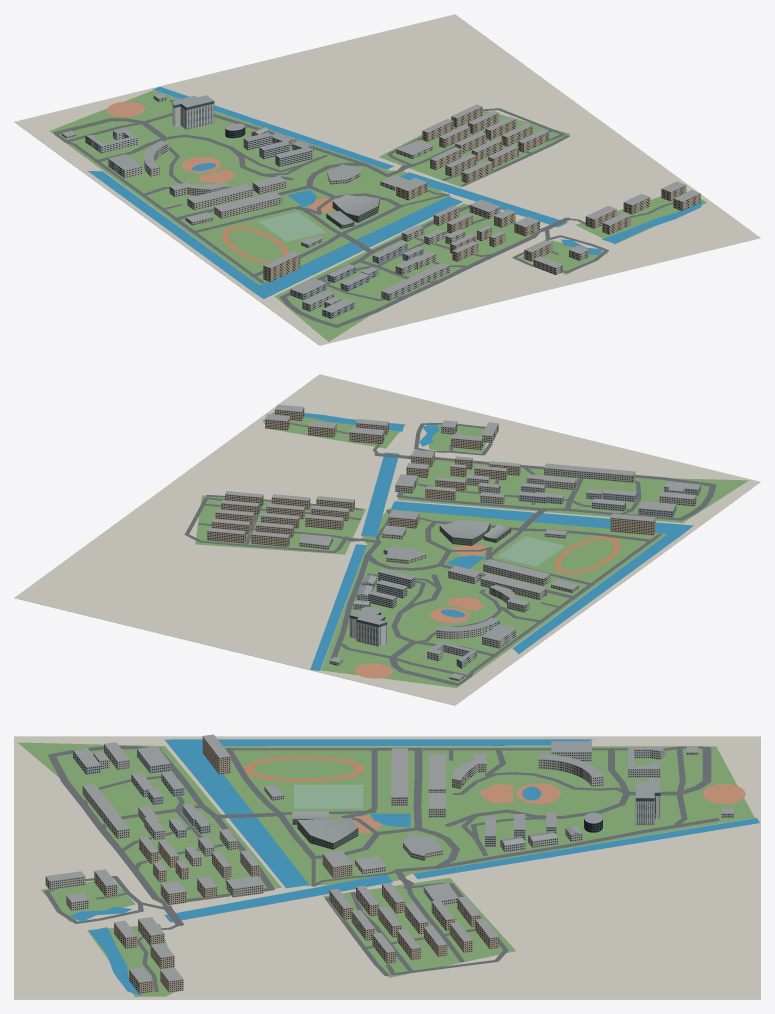
The model's file is campus.fbx.
3 views of the same model, one above another, from view 1: azimuth 30°, elevation 25°; view 2: azimuth 150°, elevation 25°; view 3: azimuth 270°, elevation 25° (orthographic). The views are drawn at different scales.
Visible parts, largest first — view 1: Ground, GRASS_022, ROAD_001, GRASS_010, WATER_002, ROAD_002, GRASS_017, GRASS_004, GRASS_021, WATER_001, WATER_003, GRASS_007 (+22 smaller); view 2: Ground, GRASS_022, ROAD_001, GRASS_010, WATER_002, GRASS_017, GRASS_004, GRASS_007, ROAD_002, GRASS_021, GRASS_005, WATER_001 (+26 smaller); view 3: Ground, GRASS_022, ROAD_001, GRASS_010, WATER_002, GRASS_007, GRASS_017, GRASS_004, ROAD_002, GRASS_021, WATER_001, GRASS_025 (+60 smaller).
Boxes of the visible parts, box(x1,y1,x2,y2) form: Ground: box(14, 14, 760, 345); GRASS_022: box(146, 115, 354, 217); ROAD_001: box(53, 100, 449, 282); GRASS_010: box(286, 208, 539, 324); WATER_002: box(88, 171, 363, 298); ROAD_002: box(279, 231, 539, 327); GRASS_017: box(197, 209, 337, 273); GRASS_004: box(49, 90, 394, 173); GRASS_021: box(312, 165, 441, 204); WATER_001: box(153, 86, 393, 169); WATER_003: box(356, 196, 462, 247); GRASS_007: box(392, 111, 548, 179); Ground: box(14, 374, 760, 705); GRASS_022: box(342, 560, 569, 655); ROAD_001: box(331, 509, 661, 685); GRASS_010: box(401, 459, 709, 517); WATER_002: box(512, 513, 693, 653); GRASS_017: box(492, 531, 646, 582); GRASS_004: box(321, 541, 461, 687); GRASS_007: box(196, 505, 360, 551); ROAD_002: box(435, 457, 716, 520); GRASS_021: box(371, 519, 445, 567); GRASS_005: box(472, 522, 667, 676); WATER_001: box(310, 544, 366, 670); Ground: box(14, 736, 760, 999); GRASS_022: box(421, 750, 681, 863); ROAD_001: box(225, 746, 719, 886); GRASS_010: box(56, 749, 266, 904); WATER_002: box(164, 739, 592, 814); GRASS_007: box(354, 884, 502, 970); GRASS_017: box(233, 750, 371, 812); GRASS_004: box(402, 746, 754, 876); ROAD_002: box(48, 746, 223, 902); GRASS_021: box(315, 830, 451, 882); WATER_001: box(413, 818, 759, 879); GRASS_025: box(493, 750, 620, 788).
Bounding box in the file's own units: 920 × 44.5 × 1104.
118 materials, 56 textured.
